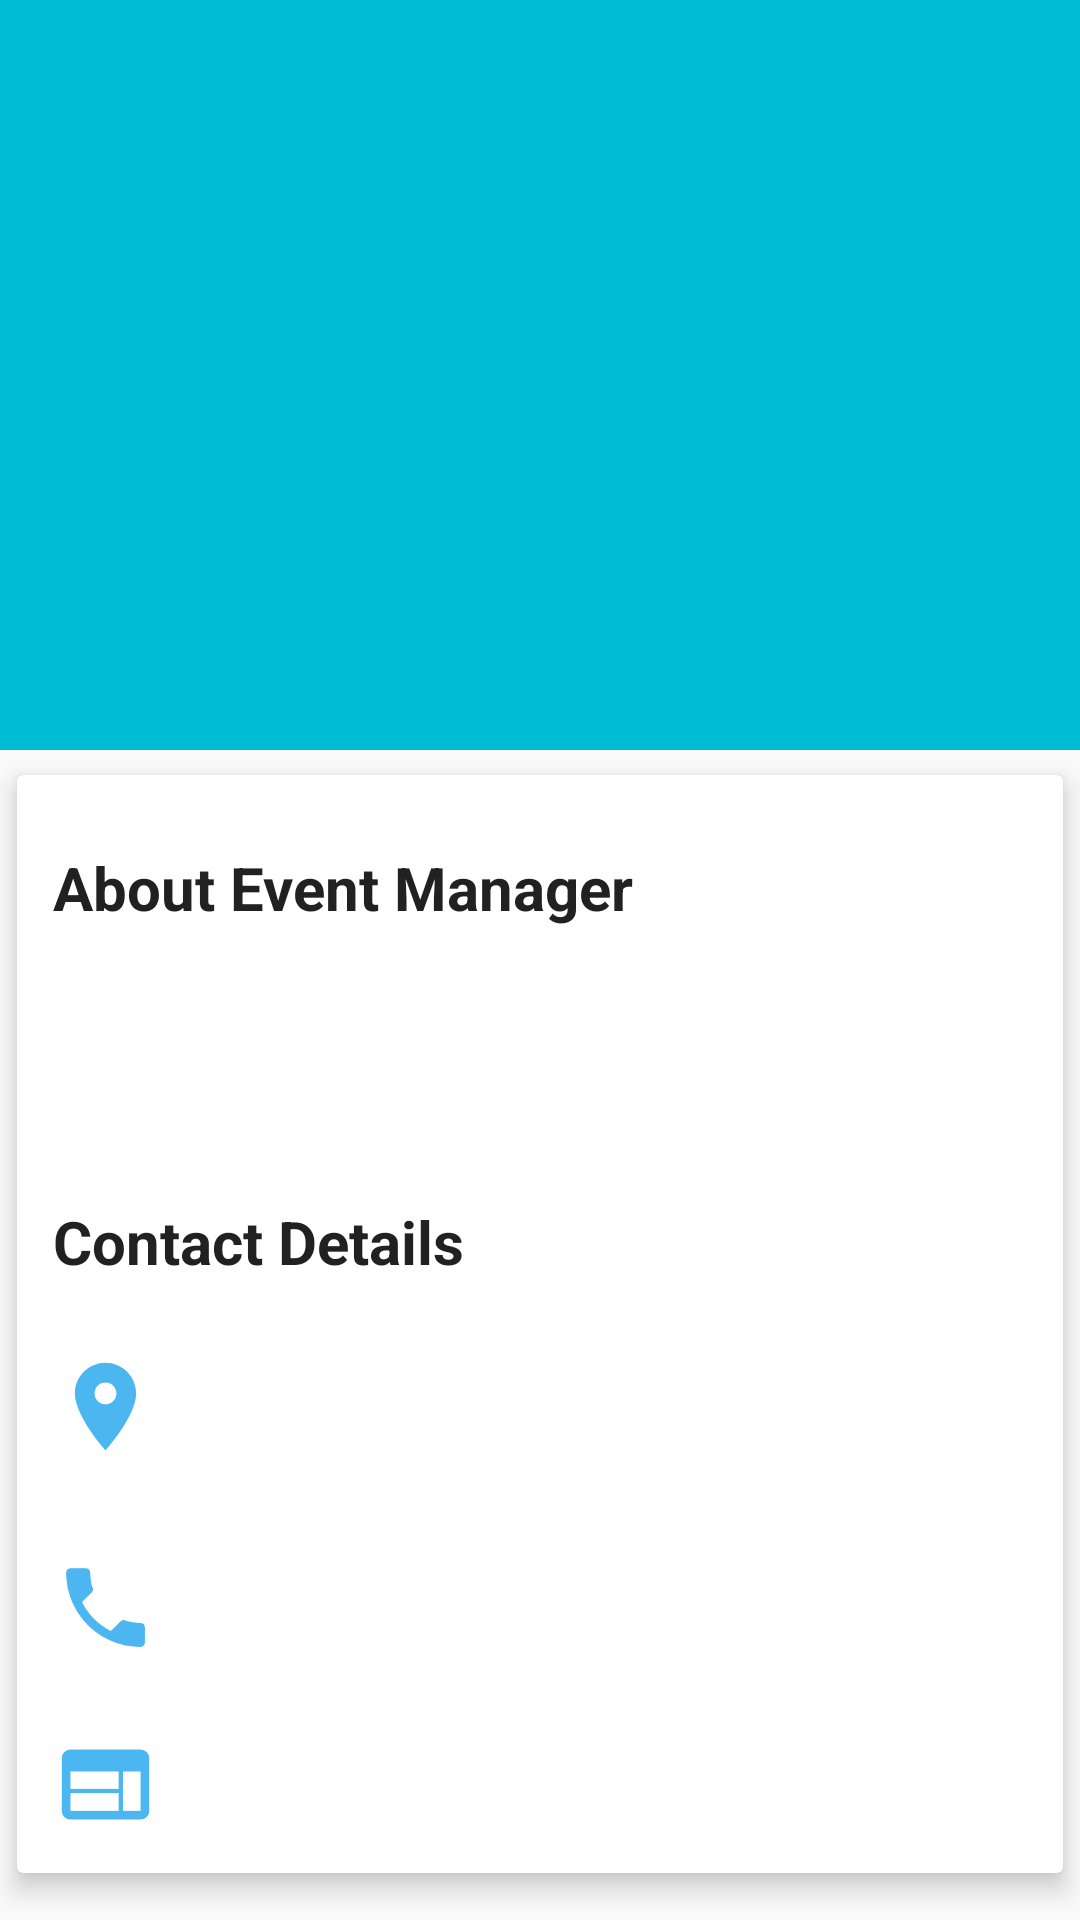

Where icons sit on this 1080 x 1920 app screen, as (left=x1, top=y1, right=x2, bottom=y2):
call: (left=66, top=1568, right=145, bottom=1647)
location on: (left=75, top=1362, right=136, bottom=1450)
web: (left=61, top=1749, right=150, bottom=1820)
